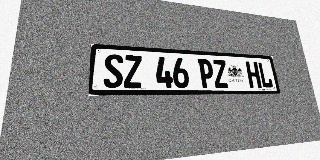4: (155, 56, 173, 88)
6: (172, 57, 190, 88)
H: (245, 61, 262, 88)
L: (257, 62, 274, 88)
P: (198, 59, 215, 88)
S: (103, 54, 123, 88)
Z: (124, 55, 142, 88), (212, 60, 229, 88)
